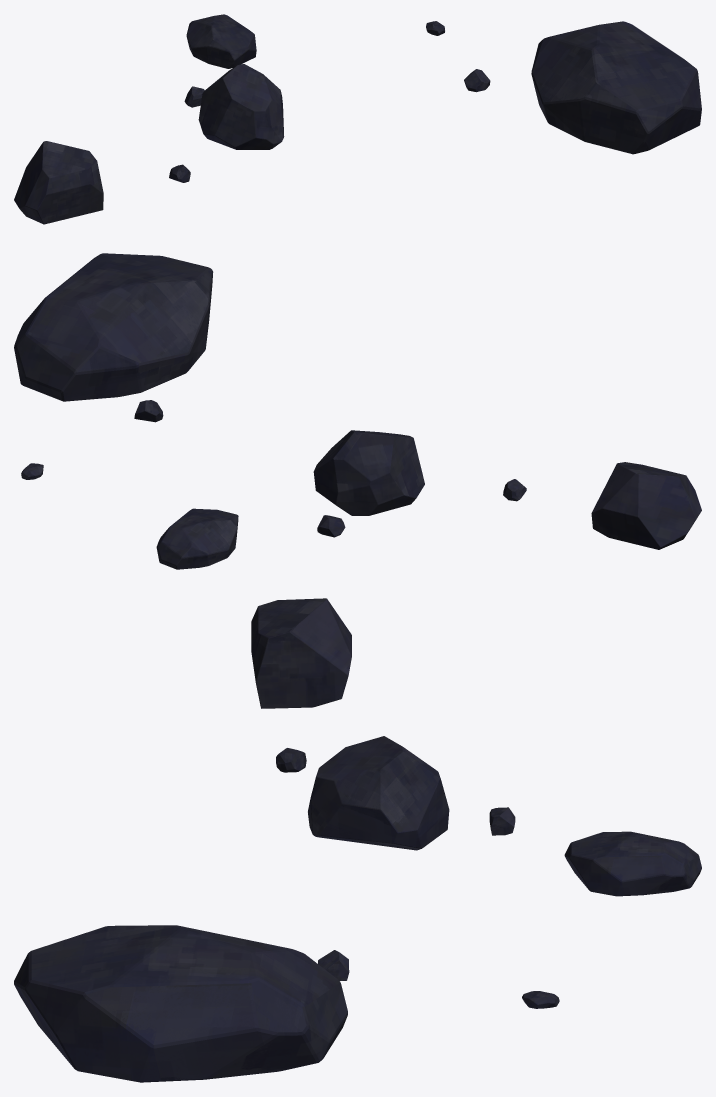
Rendered from Pebble4.fbx.
3 views of the same model, one above another, from view 1: azimuth 30°, elevation 25°; view 2: azimuth 150°, elevation 25°; view 3: azimuth 270°, elevation 25° (orthographic). The views are drawn at different scales.
Parts seen in each view (by area): view 1: Cube.032, Cube.035, Cube.033, Cube.034, Cube.036; view 2: Cube.032, Cube.035, Cube.033, Cube.034, Cube.036; view 3: Cube.032, Cube.035, Cube.033, Cube.034.
Part boxes in pixels (x1=…): Cube.032: x1=531, y1=21, x2=701, y2=154; Cube.035: x1=198, y1=64, x2=284, y2=149; Cube.033: x1=14, y1=141, x2=103, y2=224; Cube.034: x1=186, y1=14, x2=256, y2=68; Cube.036: x1=464, y1=69, x2=490, y2=92; Cube.032: x1=14, y1=253, x2=213, y2=401; Cube.035: x1=313, y1=430, x2=424, y2=515; Cube.033: x1=591, y1=462, x2=701, y2=549; Cube.034: x1=156, y1=508, x2=238, y2=569; Cube.036: x1=134, y1=400, x2=163, y2=422; Cube.032: x1=14, y1=925, x2=347, y2=1082; Cube.035: x1=308, y1=736, x2=449, y2=850; Cube.033: x1=251, y1=598, x2=351, y2=708; Cube.034: x1=564, y1=831, x2=701, y2=896.
Size of the model in its own units: 693 by 79.06 by 472.
